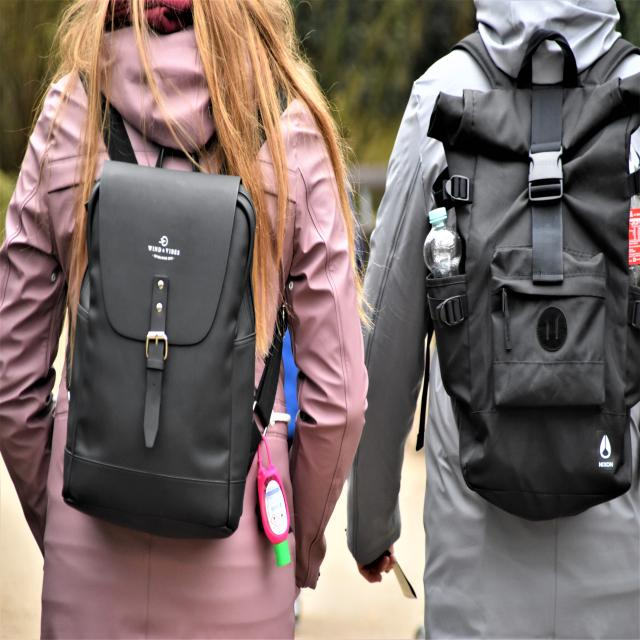backpack: (60, 61, 286, 538), (423, 27, 640, 517)
